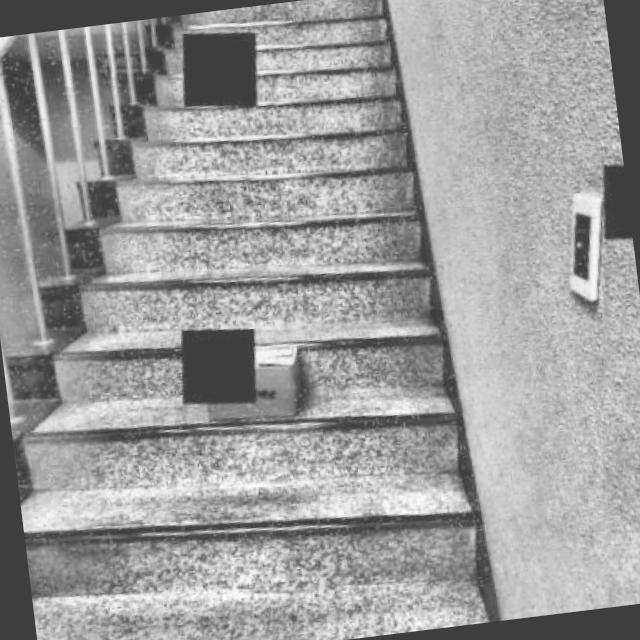box: (174, 312, 330, 452)
